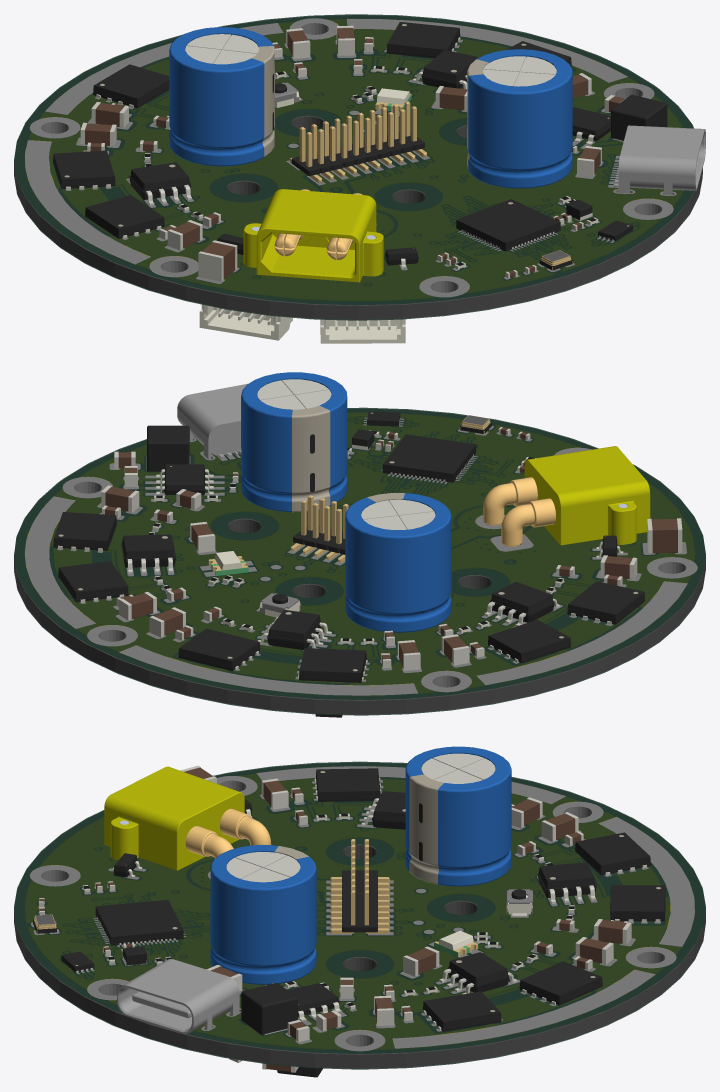
3 renders of one model, top to bottom at view 1: azimuth 30°, elevation 25°; view 2: azimuth 150°, elevation 25°; view 3: azimuth 270°, elevation 25°, orthographic.
Parts seen in each view (by area): view 1: servodrive_S_soldermask (×2), servodrive_S_copper, CP_Radial_D10.0mm_P5.00mm (×2), servodrive_S_PCB, servodrive_S_pad, XT30PW-M, TDSON-8-1 (×4), PinHeader_2x10_P1.27mm_Vertical_SMD, HRO_TYPE-C-31-M-12, C_1206_3216Metric (×7), JST_SH_SM06B-SRSS-TB_1x06-1MP_P1.00mm_Horizontal (×2), SOIC-8_3.9x4.9mm_P1.27mm (×2) (+6 smaller); view 2: servodrive_S_soldermask (×2), servodrive_S_copper, CP_Radial_D10.0mm_P5.00mm (×2), servodrive_S_PCB, servodrive_S_pad, TDSON-8-1 (×6), XT30PW-M, SOIC-8_3.9x4.9mm_P1.27mm (×3), C_1206_3216Metric (×7), HRO_TYPE-C-31-M-12, QFN-56-1EP_7x7mm_P0.4mm_EP5.6x5.6mm, PinHeader_2x10_P1.27mm_Vertical_SMD (+5 smaller); view 3: servodrive_S_soldermask (×2), servodrive_S_copper, CP_Radial_D10.0mm_P5.00mm (×2), servodrive_S_PCB, servodrive_S_pad, XT30PW-M, TDSON-8-1 (×5), HRO_TYPE-C-31-M-12, C_1206_3216Metric (×7), SOIC-8_3.9x4.9mm_P1.27mm (×3), PinHeader_2x10_P1.27mm_Vertical_SMD, QFN-56-1EP_7x7mm_P0.4mm_EP5.6x5.6mm (+4 smaller).
Part boxes in pixels (left/top/right/bottom): servodrive_S_soldermask (×2): left=14, top=14, right=702, bottom=320; servodrive_S_copper: left=25, top=19, right=682, bottom=300; CP_Radial_D10.0mm_P5.00mm (×2): left=169, top=27, right=572, bottom=188; servodrive_S_PCB: left=14, top=15, right=702, bottom=319; servodrive_S_pad: left=25, top=18, right=676, bottom=297; XT30PW-M: left=243, top=189, right=383, bottom=282; TDSON-8-1 (×4): left=53, top=22, right=460, bottom=238; PinHeader_2x10_P1.27mm_Vertical_SMD: left=290, top=101, right=426, bottom=182; HRO_TYPE-C-31-M-12: left=613, top=125, right=705, bottom=195; C_1206_3216Metric (×7): left=80, top=25, right=601, bottom=250; JST_SH_SM06B-SRSS-TB_1x06-1MP_P1.00mm_Horizontal (×2): left=199, top=304, right=405, bottom=343; SOIC-8_3.9x4.9mm_P1.27mm (×2): left=128, top=50, right=477, bottom=205; servodrive_S_soldermask (×2): left=14, top=407, right=705, bottom=715; servodrive_S_copper: left=26, top=413, right=694, bottom=693; CP_Radial_D10.0mm_P5.00mm (×2): left=241, top=372, right=451, bottom=632; servodrive_S_PCB: left=14, top=409, right=705, bottom=714; servodrive_S_pad: left=25, top=417, right=697, bottom=695; TDSON-8-1 (×6): left=53, top=512, right=644, bottom=682; XT30PW-M: left=483, top=446, right=650, bottom=546; SOIC-8_3.9x4.9mm_P1.27mm (×3): left=121, top=534, right=559, bottom=649; C_1206_3216Metric (×7): left=101, top=485, right=637, bottom=670; HRO_TYPE-C-31-M-12: left=177, top=383, right=247, bottom=459; QFN-56-1EP_7x7mm_P0.4mm_EP5.6x5.6mm: left=382, top=434, right=476, bottom=482; PinHeader_2x10_P1.27mm_Vertical_SMD: left=291, top=495, right=348, bottom=562; servodrive_S_soldermask (×2): left=14, top=761, right=705, bottom=1069; servodrive_S_copper: left=25, top=766, right=681, bottom=1049; CP_Radial_D10.0mm_P5.00mm (×2): left=210, top=746, right=511, bottom=984; servodrive_S_PCB: left=14, top=763, right=705, bottom=1068; servodrive_S_pad: left=29, top=766, right=694, bottom=1051; XT30PW-M: left=104, top=766, right=271, bottom=870; TDSON-8-1 (×5): left=314, top=768, right=665, bottom=1031; HRO_TYPE-C-31-M-12: left=117, top=959, right=239, bottom=1034; C_1206_3216Metric (×7): left=261, top=778, right=631, bottom=1025; SOIC-8_3.9x4.9mm_P1.27mm (×3): left=361, top=791, right=596, bottom=994; PinHeader_2x10_P1.27mm_Vertical_SMD: left=330, top=839, right=389, bottom=933; QFN-56-1EP_7x7mm_P0.4mm_EP5.6x5.6mm: left=95, top=900, right=183, bottom=945.
Size of the model in its own units: 0.065 by 0.0147 by 0.065.
